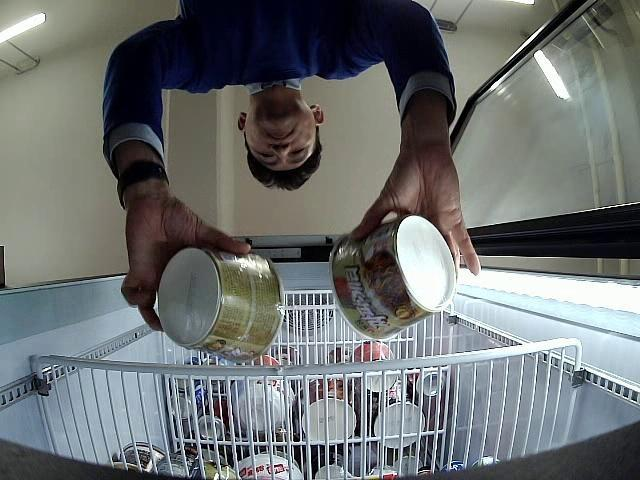03_chapagetti_L: (328, 214, 456, 342), (158, 246, 284, 363)
